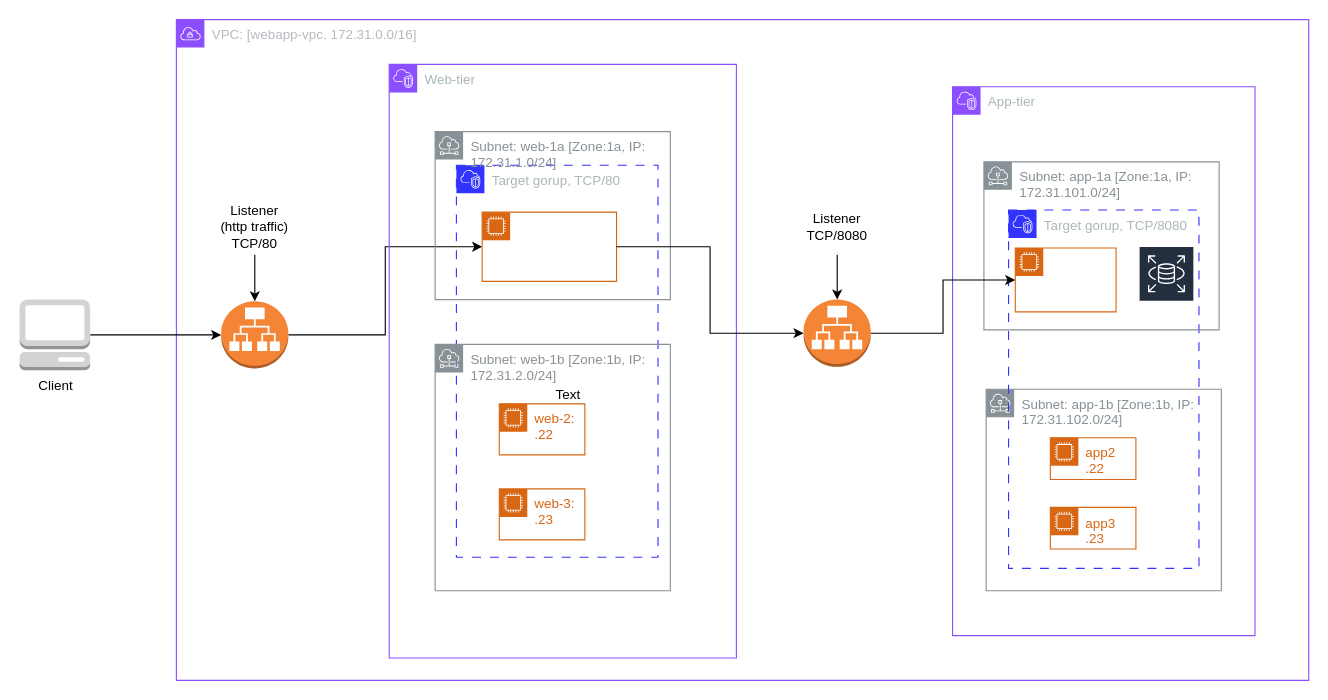
Some shapes in this 1328 by 700 pixel diagram are drawn without their labels. The shapes that lost their labels are listed below. From the top down, each one's centre as x and y in pixels, then its label:
At pixel 549 246: "Web-1: .21".
At pixel 1065 279: "app1, .21".
At pixel 1165 284: "db, .99".
At pixel 254 334: "web-lb".
At pixel 836 332: "app-lb".
